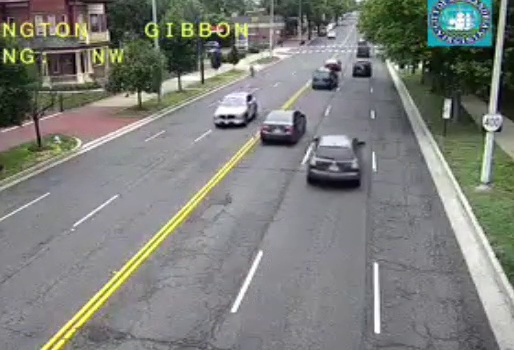car: (307, 138, 360, 182), (261, 111, 305, 141), (312, 69, 337, 89), (352, 61, 372, 77)
